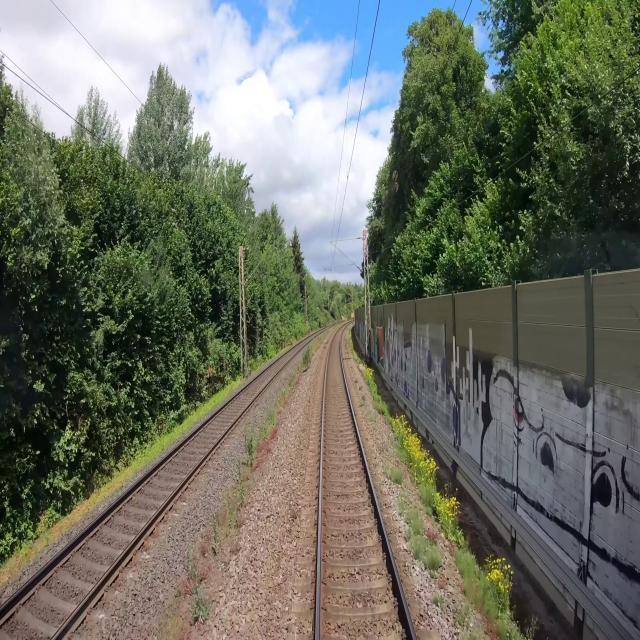Plant: (154, 344, 313, 639), (382, 465, 442, 572), (432, 591, 477, 639)
